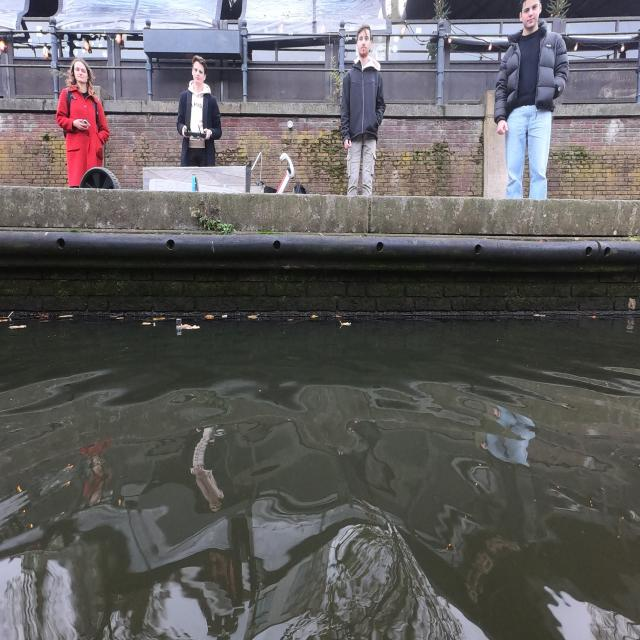dock: (0, 198, 638, 322)
water: (2, 320, 630, 632)
